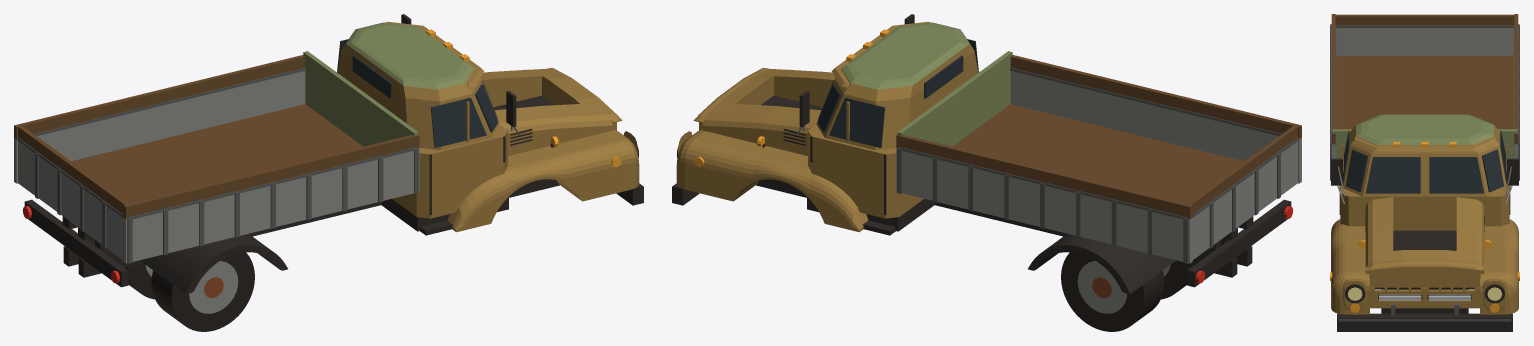
The model's file is base_longbed.glb.
The picture shows the model from 3 angles, left to right: view 1: azimuth 30°, elevation 25°; view 2: azimuth 150°, elevation 25°; view 3: azimuth 270°, elevation 25°; orthographic projection. The views are drawn at different scales.
Visible parts, largest first — view 1: base_longbed; view 2: base_longbed; view 3: base_longbed.
Part boxes in pixels (bbox=[...]): base_longbed: bbox=[14, 14, 643, 331]; base_longbed: bbox=[672, 14, 1301, 331]; base_longbed: bbox=[1330, 14, 1519, 331].
Size of the model in its own units: 7.15 by 2.61 by 2.69.
